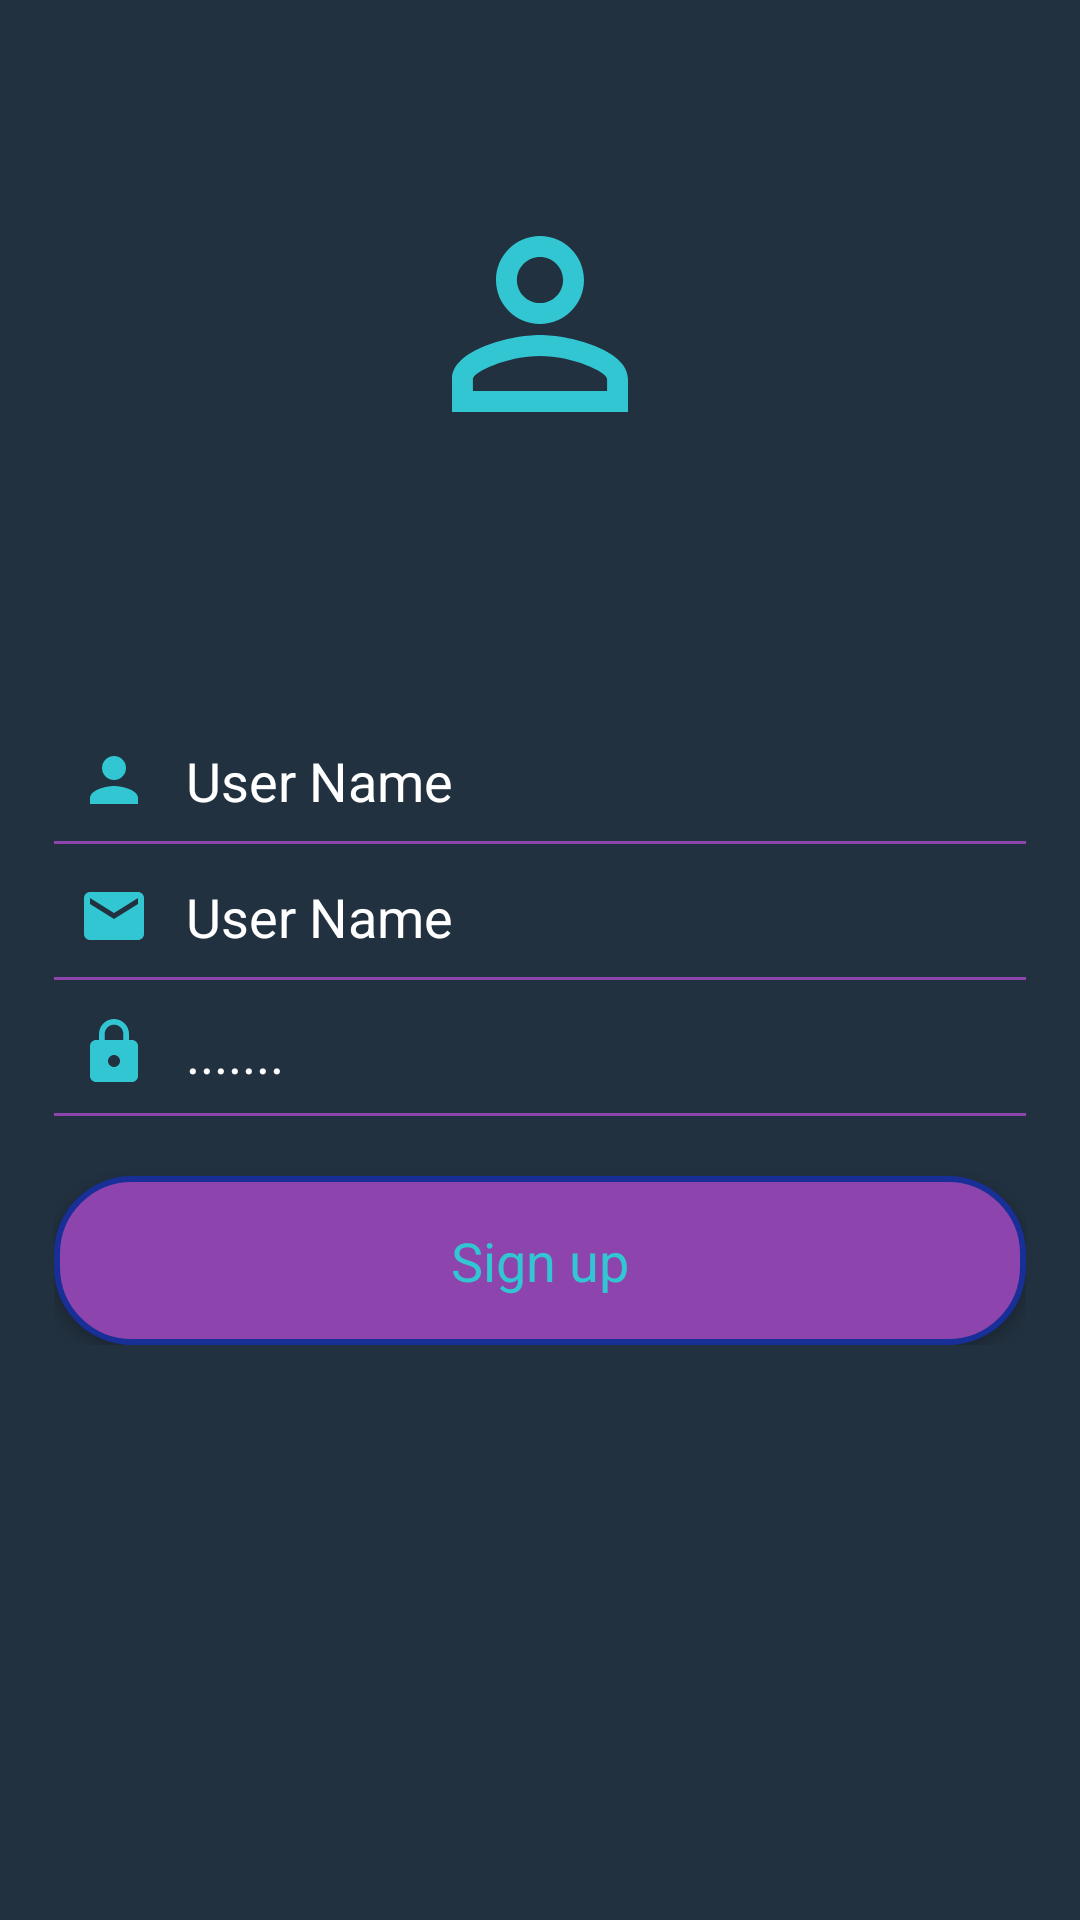

Locate icon controls on the screen. Image size 1080 × 1920, boxes as box=[x1, y1, x2, y2].
person: box=[452, 236, 628, 412]
